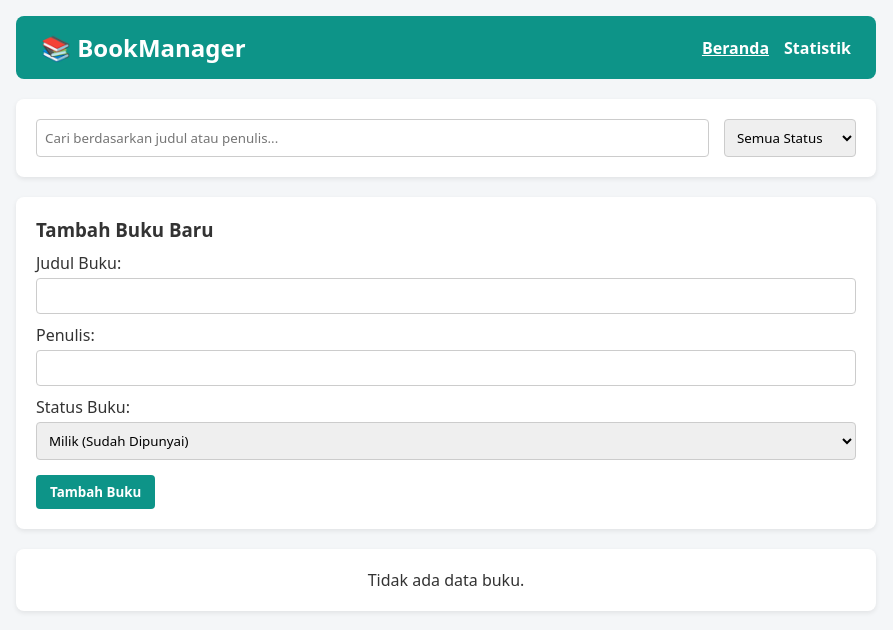
Aplikasi Manajemen Buku - Integration Testing › 5. Navigasi ke halaman Statistik berfungsi dengan baik
This screenshot has width=893, height=630.
Click the link "Statistik": click(818, 48) [784, 36, 851, 58]
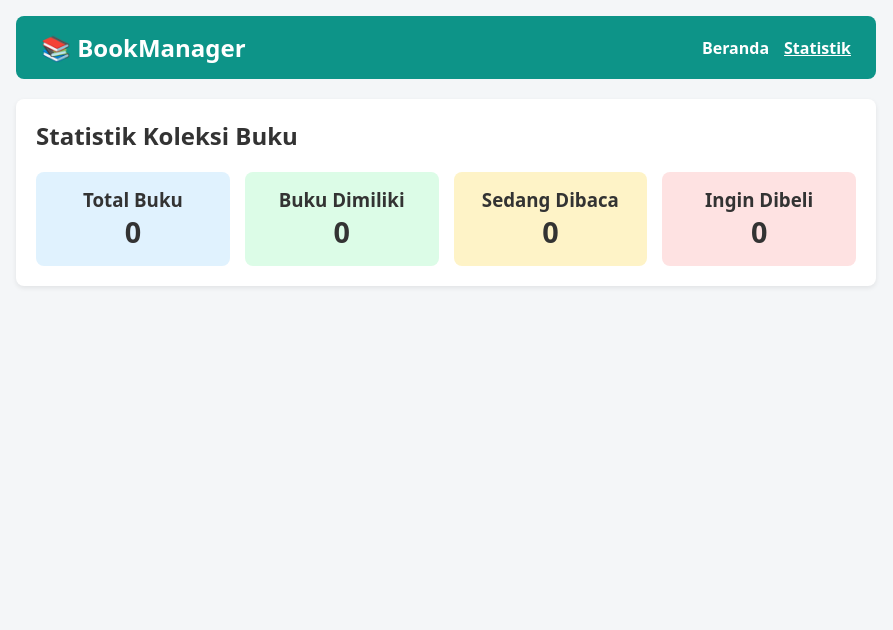
Expected: the heading "Statistik Koleksi Buku" is shown, [36, 119, 298, 152]
